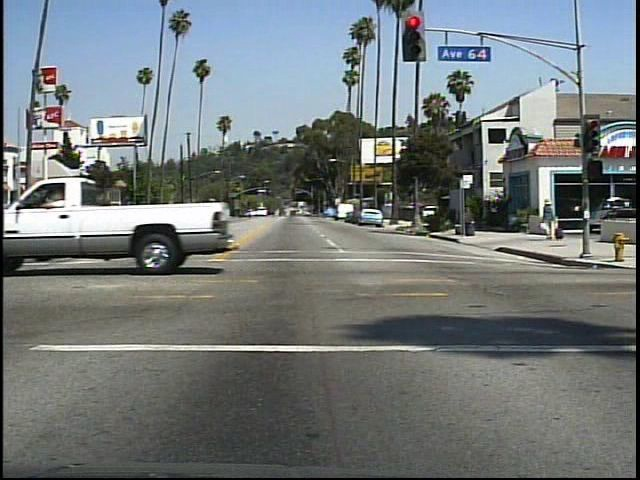person: (538, 194, 565, 246)
